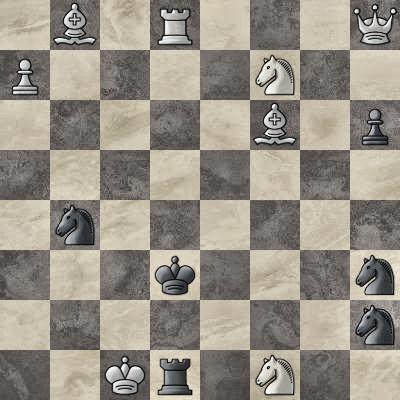black-king: (150, 250, 200, 300)
black-knight: (50, 200, 100, 250), (350, 250, 400, 300), (350, 300, 400, 350)
black-pawn: (350, 100, 400, 150)
black-rook: (150, 350, 200, 400)
white-bishop: (50, 0, 100, 50), (250, 100, 300, 150)
white-king: (100, 350, 150, 400)
white-knight: (250, 50, 300, 100), (250, 350, 300, 400)
white-pawn: (0, 50, 50, 100)
white-queen: (350, 0, 400, 50)
white-rook: (150, 0, 200, 50)
